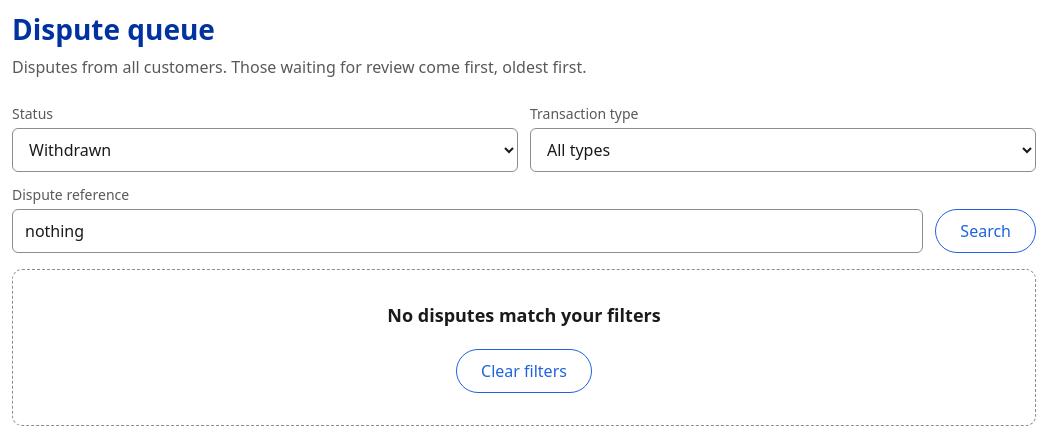
Test: agent dispute queue › says when no dispute matches the filters and offers to clear them
The image size is (1048, 443).
expect the text "No disputes match your filters" is shown: met, box [387,302,661,329]
Click the button "Clear filters". click: coordinates (524, 371)
box: [456,349,592,393]
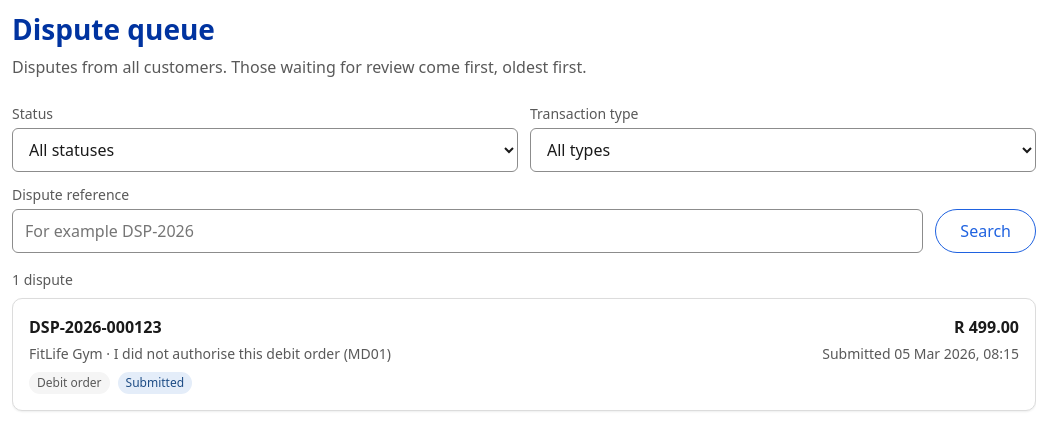
expect the list named "Disputes" is shown: met, box [12,298,1036,411]
expect the dropdown labelled "Status" shows "All statuses": met, box [12,128,518,172]
expect the search field labelled "Dispute reference" is empty: met, box [12,209,923,253]
